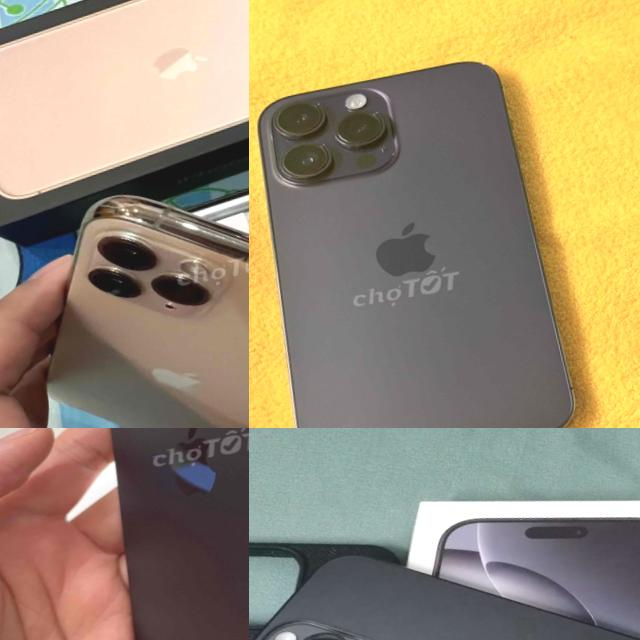gen_11: (10, 127, 249, 428)
gen_14: (249, 43, 587, 428)
gen_15: (4, 428, 249, 640)
gen_16: (249, 477, 640, 640)
